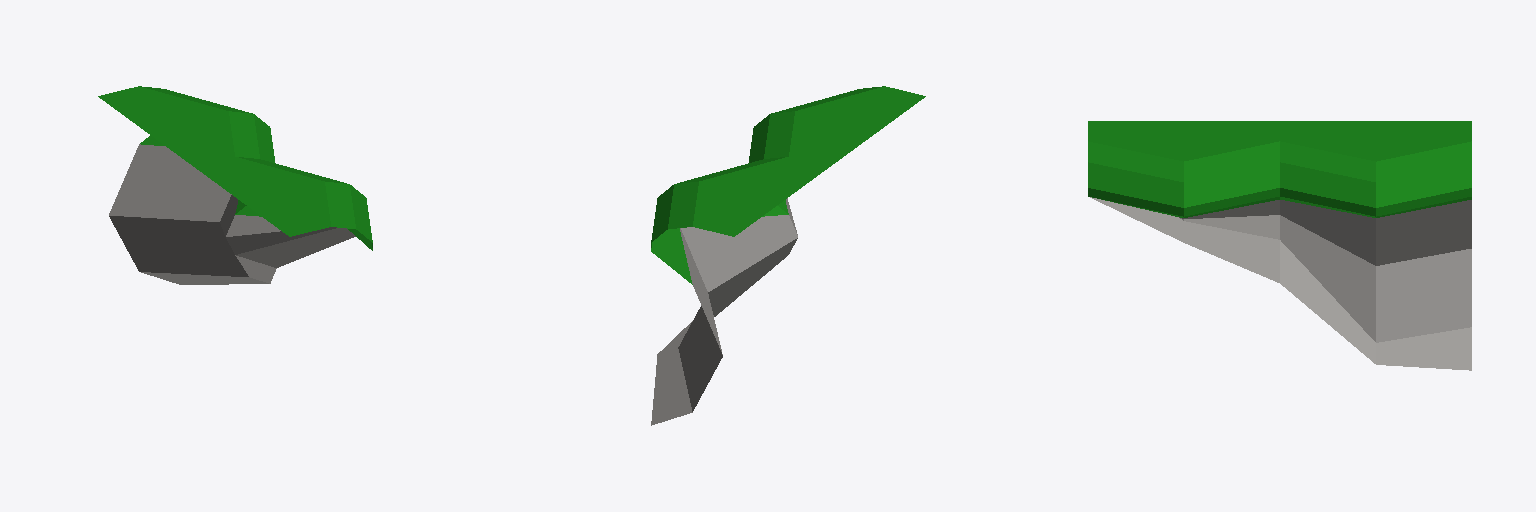
The model's file is Cliff_Terrain_Hill_Base_Top_Joined_Sharp.obj.
The picture shows the model from 3 angles: view 1: azimuth 30°, elevation 25°; view 2: azimuth 150°, elevation 25°; view 3: azimuth 270°, elevation 25°; orthographic projection.
Parts seen in each view (by area): view 1: object1; view 2: object1; view 3: object1.
Part boxes in pixels (bbox=[...]): object1: bbox=[98, 86, 372, 284]; object1: bbox=[651, 86, 925, 425]; object1: bbox=[1088, 121, 1471, 370].
Size of the model in its own units: 0.75 by 1.2 by 2.